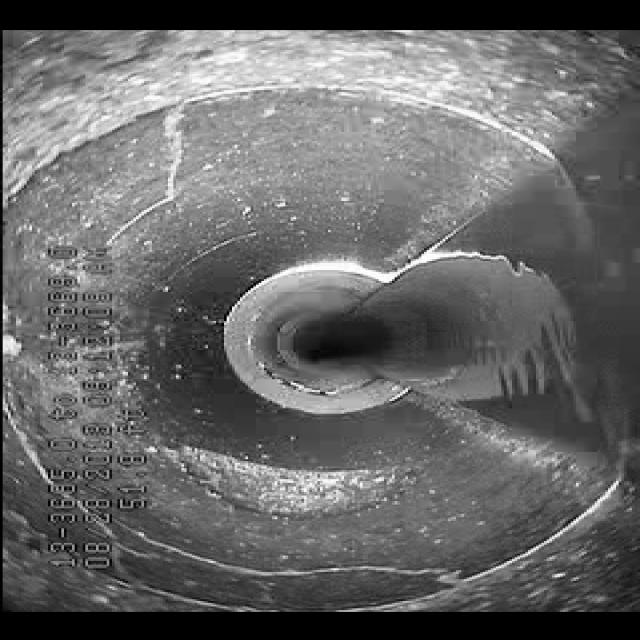Crack: (120, 525, 456, 591), (118, 130, 249, 223)
